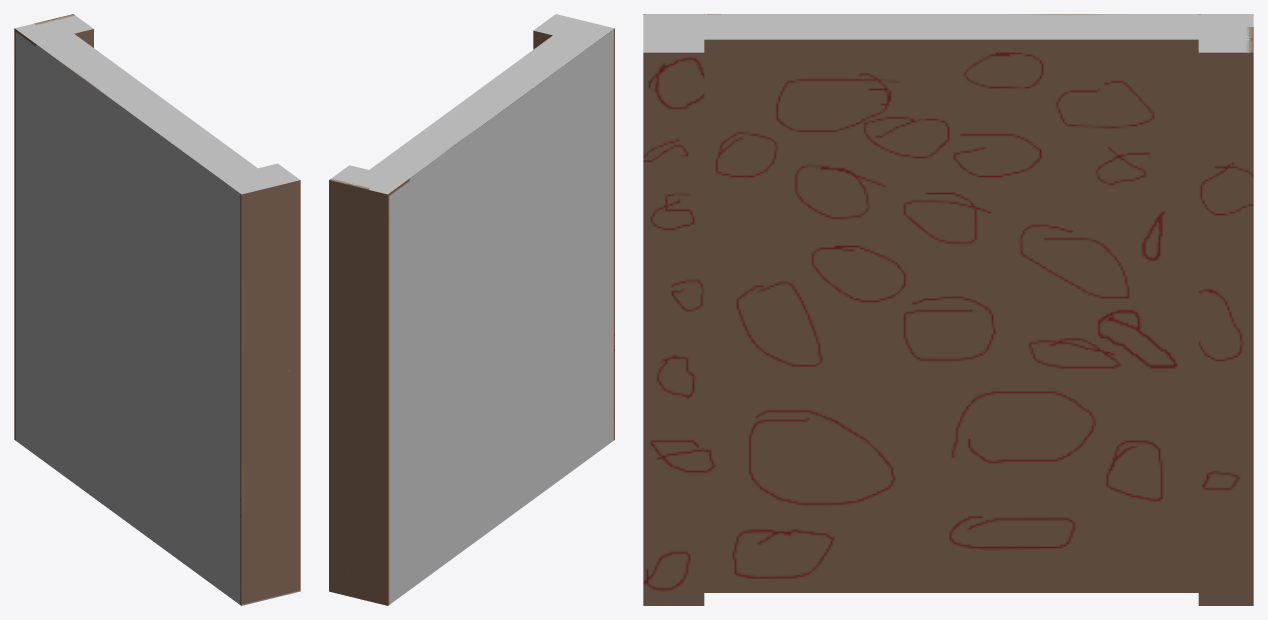
The model's file is wall.fbx.
3 views of the same model, side by side, from view 1: azimuth 30°, elevation 25°; view 2: azimuth 150°, elevation 25°; view 3: azimuth 270°, elevation 25° (orthographic). The views are drawn at different scales.
Parts seen in each view (by area): view 1: Cube; view 2: Cube; view 3: Cube.
Part boxes in pixels (<box>): Cube: <box>14,14,300,605</box>; Cube: <box>329,14,614,605</box>; Cube: <box>643,14,1253,605</box>.
Size of the model in its own units: 30.07 by 200 by 200.
